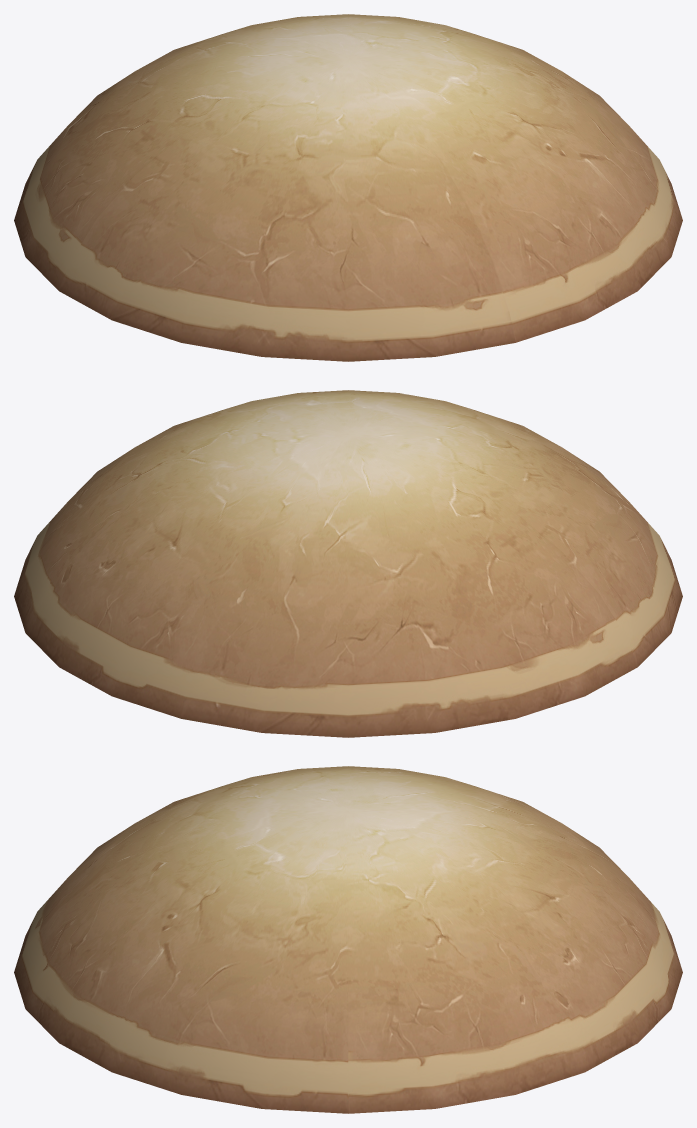
The model's file is DE_House_Mod_Part_39.fbx.
3 renders of one model, top to bottom at view 1: azimuth 30°, elevation 25°; view 2: azimuth 150°, elevation 25°; view 3: azimuth 270°, elevation 25°, orthographic.
Visible parts, largest first — view 1: DE_House_Mod_Part_39; view 2: DE_House_Mod_Part_39; view 3: DE_House_Mod_Part_39.
Part boxes in pixels (x1=…): DE_House_Mod_Part_39: x1=14, y1=14, x2=682, y2=361; DE_House_Mod_Part_39: x1=14, y1=390, x2=682, y2=737; DE_House_Mod_Part_39: x1=14, y1=766, x2=682, y2=1113.
Bounding box in the file's own units: 5.82 × 1.55 × 5.82.
